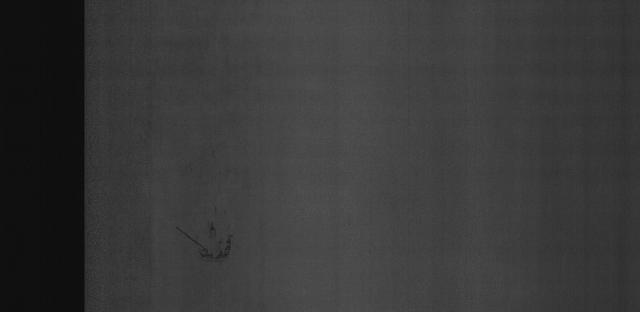water_spot: (180, 200, 242, 271)
